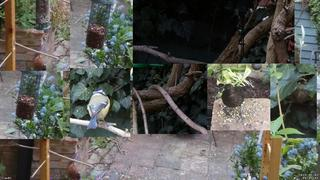blackbird: (221, 84, 250, 120)
blue tit: (86, 88, 110, 129)
